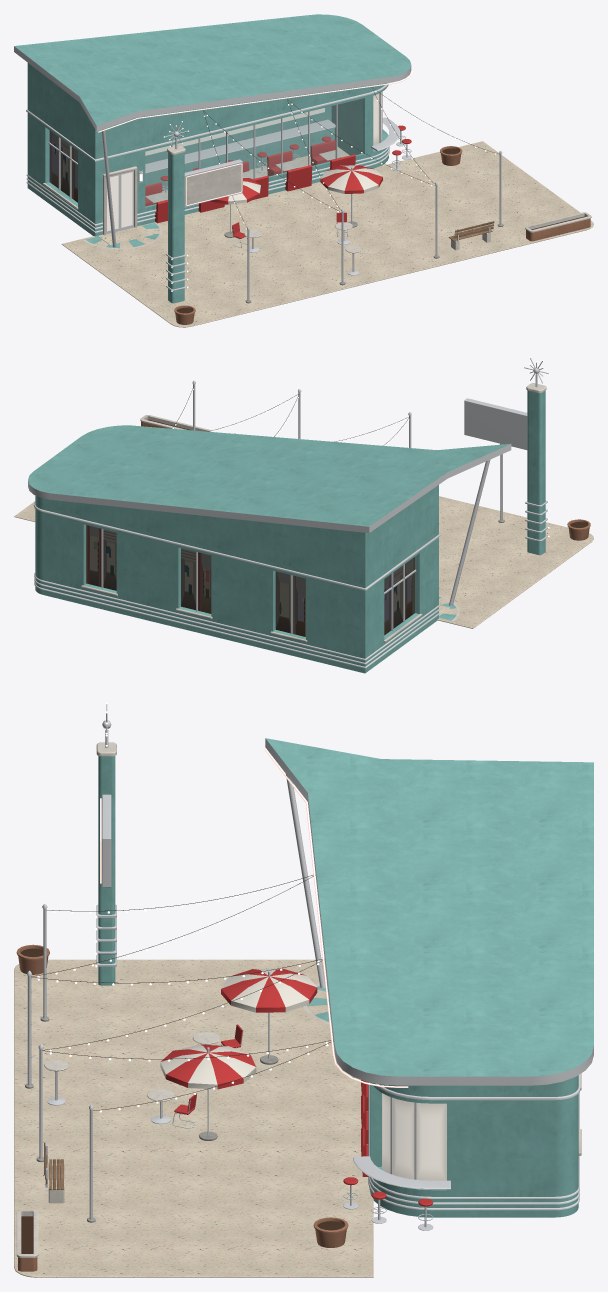
Rendered from plot_diner.gltf.
3 views of the same model, one above another, from view 1: azimuth 30°, elevation 25°; view 2: azimuth 150°, elevation 25°; view 3: azimuth 270°, elevation 25° (orthographic). The views are drawn at different scales.
Parts seen in each view (by area): view 1: plot_diner_mesh, sign_face; view 2: plot_diner_mesh; view 3: plot_diner_mesh.
Boxes of the visible parts, x1,y1,x2,y2 form: plot_diner_mesh: [14, 14, 593, 327]; sign_face: [185, 162, 242, 206]; plot_diner_mesh: [14, 356, 593, 673]; plot_diner_mesh: [14, 702, 593, 1277].
Size of the model in its own units: 19.4 by 7.88 by 15.
13 materials, 8 textured.
